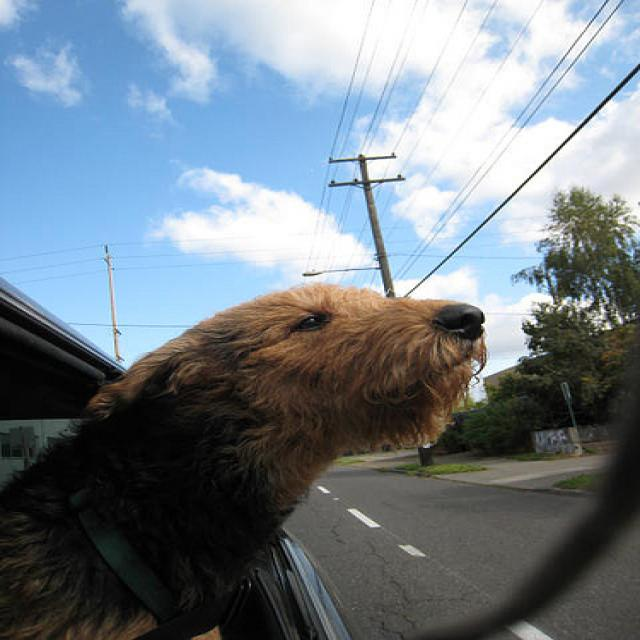Vehicle: (0, 278, 364, 634)
